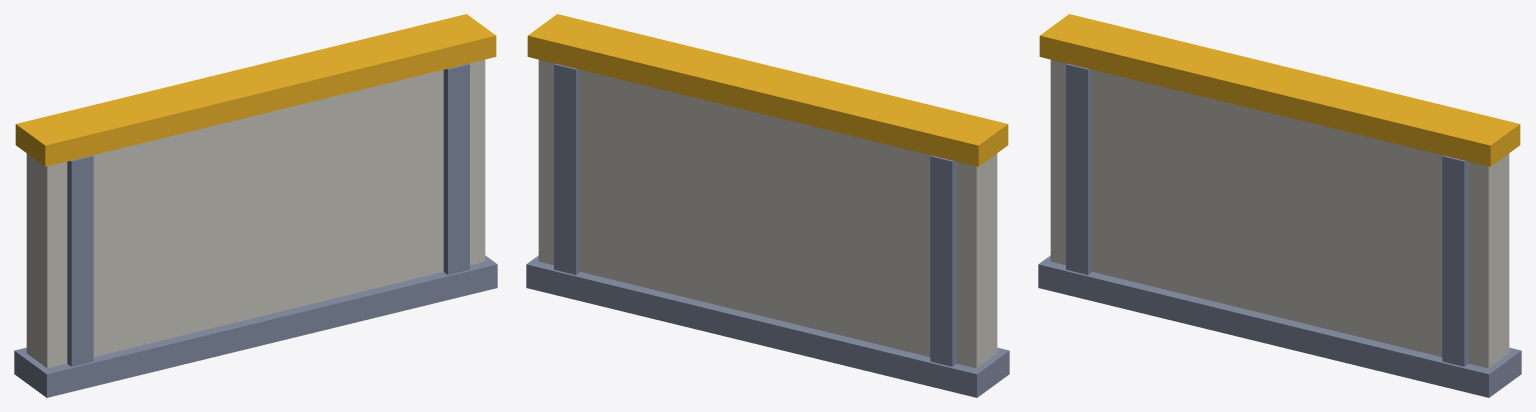
Rendered from wall.glb.
The picture shows the model from 3 angles, left to right: view 1: azimuth 30°, elevation 25°; view 2: azimuth 150°, elevation 25°; view 3: azimuth 330°, elevation 25°; orthographic projection.
Parts seen in each view (by area): view 1: wall; view 2: wall; view 3: wall.
Boxes of the visible parts, x1,y1,x2,y2 form: wall: (14,14,497,397); wall: (526,14,1009,397); wall: (1038,14,1521,397).
Size of the model in its own units: 2 by 1.06 by 0.25.
